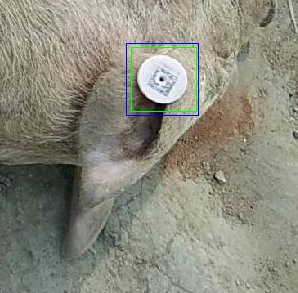text: (131, 47, 196, 111)
